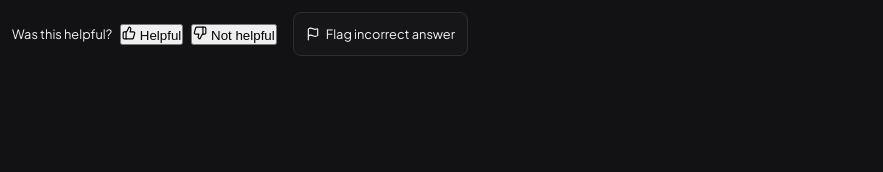
Feedback readback and safe retry › allows retry for a definitive rejection
What coordinates should you click on to do the following:
click the button "Not helpful"
I would click on:
 (234, 34)
Its box is [191,24,277,44].
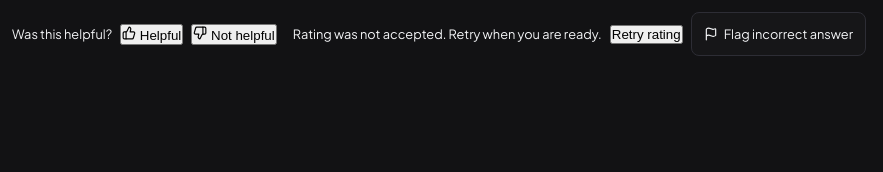
Expected: the message shows "not accepted", [293,26,602,42]
What coordinates should you click on to do the following:
click the button "Retry rating"
I would click on:
 (646, 34)
Its box is [610,24,683,44].
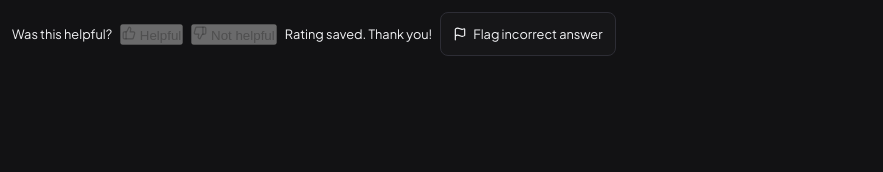
Expected: the text "Rating saved. Thank you!" is shown, [285,26,432,42]
